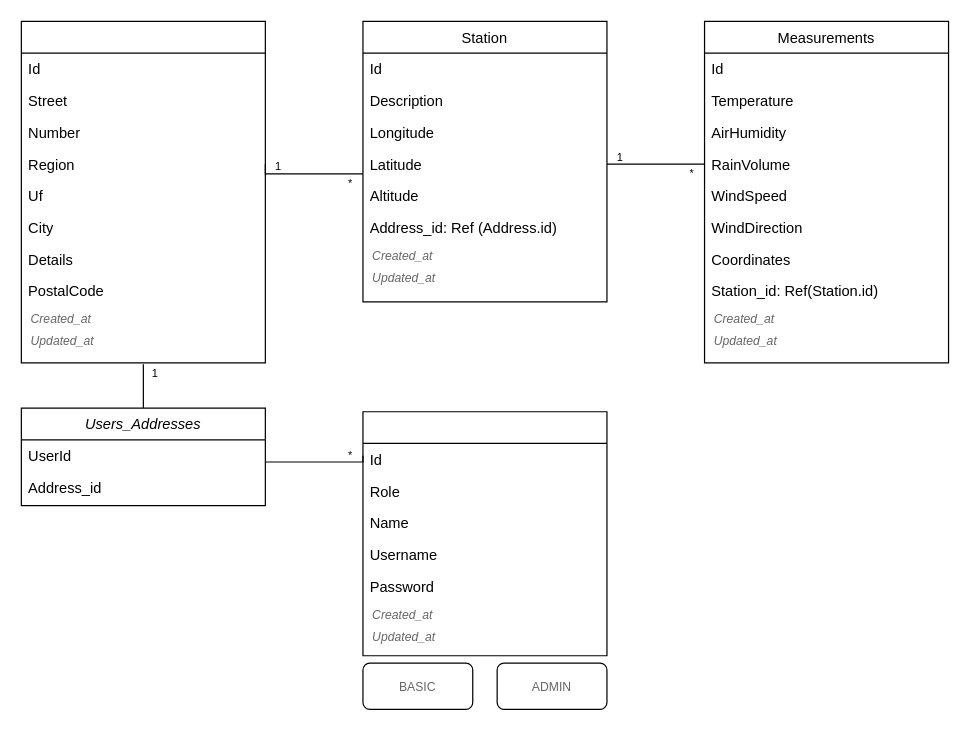
The diagram is 970 pixels wide and 731 high, and some of its shapes have lost their labels. The box of each missing label's shape, as (x1, y1, x2, y2) in pixels:
Address: (20, 20, 265, 363)
Users: (362, 411, 607, 656)
